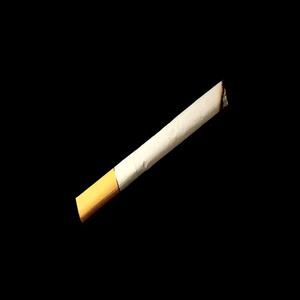cigarette: (72, 78, 231, 221)
